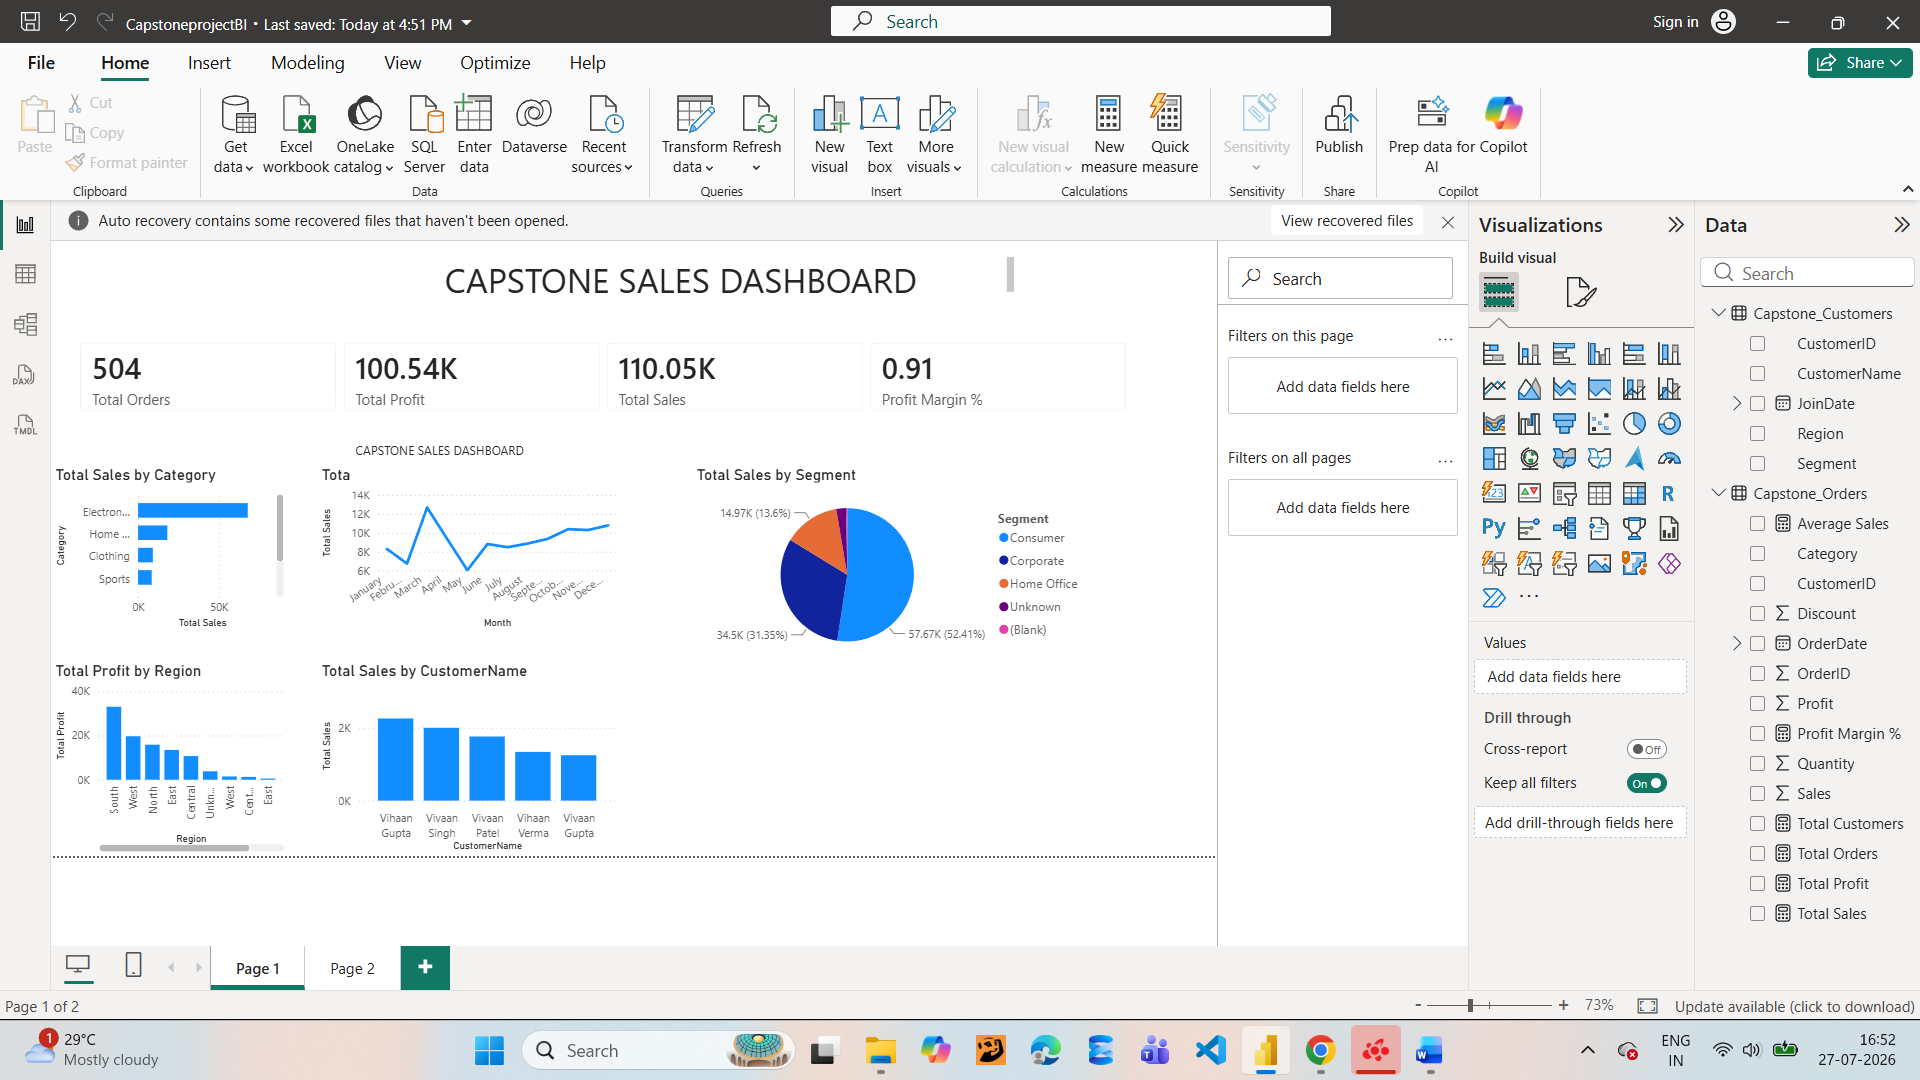

Layout of this report page (visuals, bound fields, positions):
{"tool":"powerbi","page":{"name":"Page 1","canvas":[1280,720],"ordinal":0},"visuals":[{"type":"clusteredBarChart","fields":{"Category":["Capstone_Orders.Category"],"Y":["Capstone_Orders.Total Sales"]},"box":[0,290.9,260.7,183.9],"z":0},{"type":"clusteredColumnChart","fields":{"Category":["Capstone_Customers.Region"],"Y":["Capstone_Orders.Total Profit"]},"box":[0,506.3,260.7,214.1],"z":1000},{"type":"lineChart","fields":{"Category":["Capstone_Orders.OrderDate.Variation.Date Hierarchy.Month"],"Y":["Capstone_Orders.Total Sales"]},"box":[292.3,290.9,333.4,183.9],"z":2000},{"type":"pieChart","fields":{"Y":["Capstone_Orders.Total Sales"],"Category":["Capstone_Customers.Segment"]},"box":[703.9,290.9,437.7,222.3],"z":3000},{"type":"kpi","fields":{"Indicator":["Capstone_Orders.Total Sales"],"Goal":["Capstone_Orders.Total Profit","Capstone_Orders.Total Orders"]},"box":[0,0,977,150.9],"z":4000},{"type":"kpi","fields":{"Indicator":["Capstone_Orders.Total Sales"],"Goal":["Capstone_Orders.Total Orders","Capstone_Orders.Total Profit"]},"box":[0,0,417.2,140],"z":5000},{"type":"kpi","fields":{"Indicator":["Capstone_Orders.Total Profit"],"Goal":["Capstone_Orders.Total Orders","Capstone_Orders.Total Sales"]},"box":[0,0,686.1,140],"z":6000},{"type":"kpi","fields":{"Indicator":["Capstone_Orders.Total Profit"],"Goal":["Capstone_Orders.Total Sales","Capstone_Orders.Total Orders"]},"box":[686,0,280,150],"z":7000},{"type":"cardVisual","fields":{"Data":["Capstone_Orders.Total Orders","Capstone_Orders.Total Profit","Capstone_Orders.Total Sales","Capstone_Orders.Profit Margin %"]},"box":[15.1,140,1184.2,109.8],"z":8000},{"type":"textbox","box":[182.5,0,783.5,111.1],"z":8002},{"type":"textbox","box":[1112,0,150,150],"z":8003},{"type":"textbox","box":[329.3,260.7,230.5,59],"z":8004},{"type":"textbox","box":[329.3,57.6,389.7,53.5],"z":8005}]}

Visuals, with their boxes on the page's 1280x720 design canvas (x1, y1, x2, y2). These are canvas units, not pixel positions in the 1920x1080 screenshot, which may show the page scaled, cropped or inside an application window:
clusteredBarChart - Capstone_Orders.Category x Capstone_Orders.Total Sales: <region>0, 291, 261, 475</region>
clusteredColumnChart - Capstone_Customers.Region x Capstone_Orders.Total Profit: <region>0, 506, 261, 720</region>
lineChart - Capstone_Orders.OrderDate.Variation.Date Hierarchy.Month x Capstone_Orders.Total Sales: <region>292, 291, 626, 475</region>
pieChart - Capstone_Orders.Total Sales x Capstone_Customers.Segment: <region>704, 291, 1142, 513</region>
kpi - Capstone_Orders.Total Sales x Capstone_Orders.Total Profit: <region>0, 0, 977, 151</region>
kpi - Capstone_Orders.Total Sales x Capstone_Orders.Total Orders: <region>0, 0, 417, 140</region>
kpi - Capstone_Orders.Total Profit x Capstone_Orders.Total Orders: <region>0, 0, 686, 140</region>
kpi - Capstone_Orders.Total Profit x Capstone_Orders.Total Sales: <region>686, 0, 966, 150</region>
cardVisual - Capstone_Orders.Total Orders x Capstone_Orders.Total Profit: <region>15, 140, 1199, 250</region>
textbox: <region>182, 0, 966, 111</region>
textbox: <region>1112, 0, 1262, 150</region>
textbox: <region>329, 261, 560, 320</region>
textbox: <region>329, 58, 719, 111</region>
